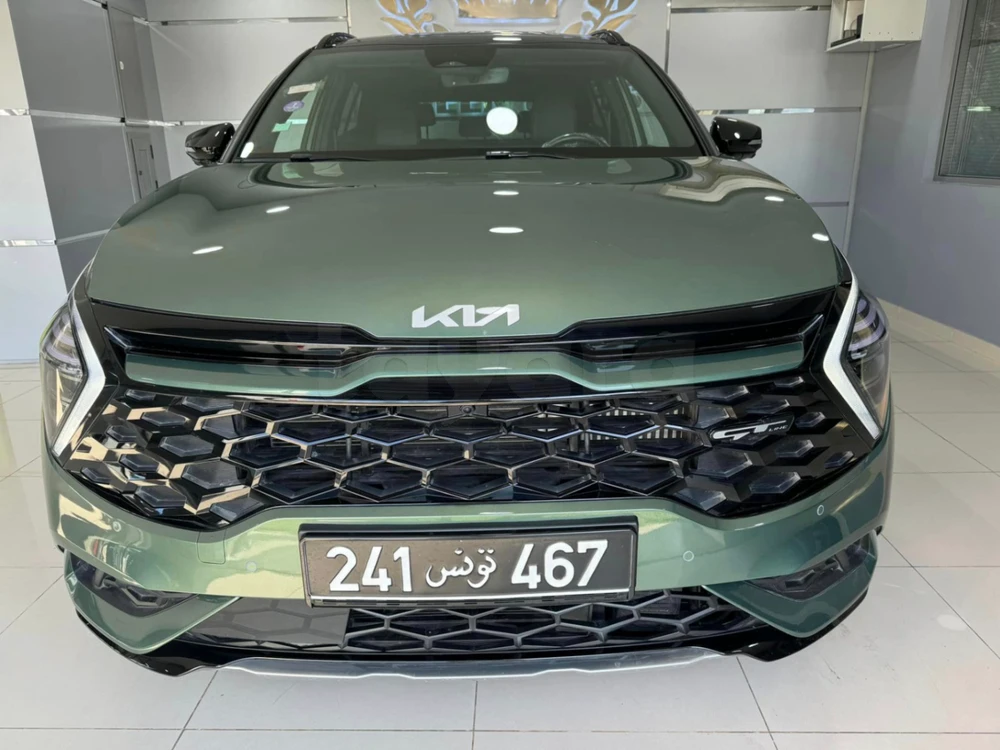kia: (42, 29, 897, 673)
